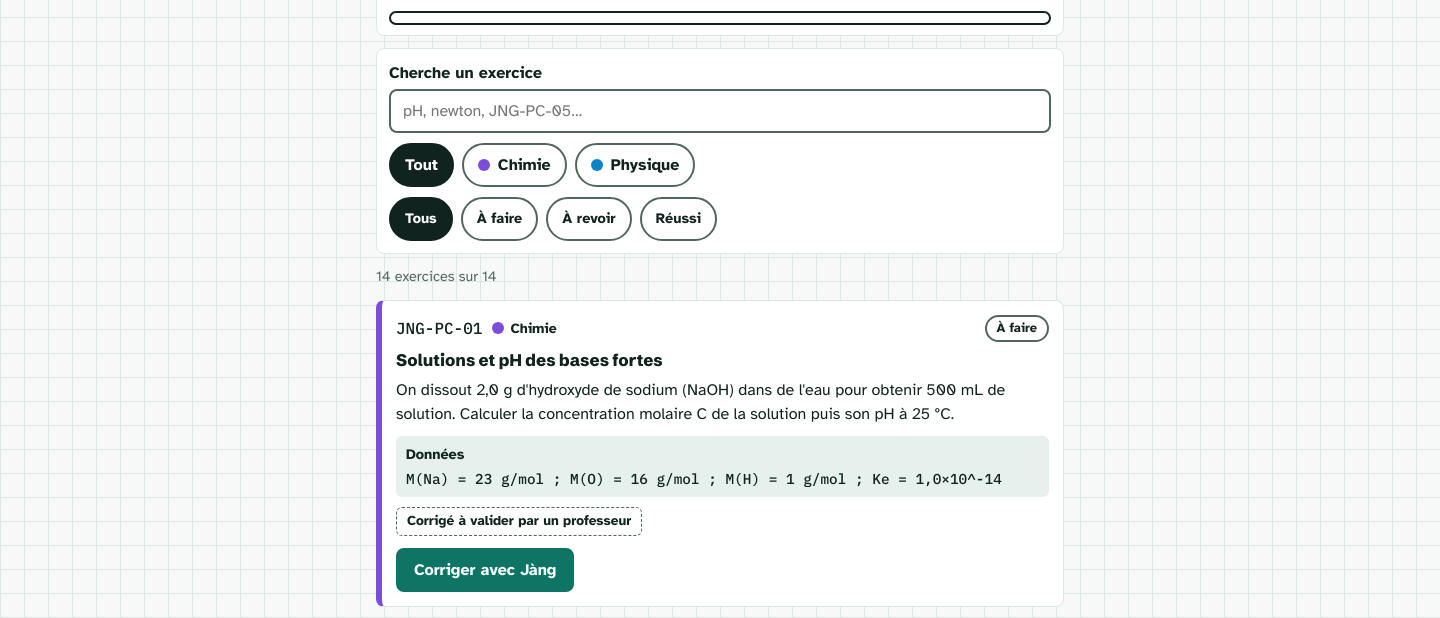
Test case: Correction panel › opens prefilled, and only one panel at a time
Click the button "Corriger avec Jàng": (485, 570) [396,548,574,592]
(page scrolled)
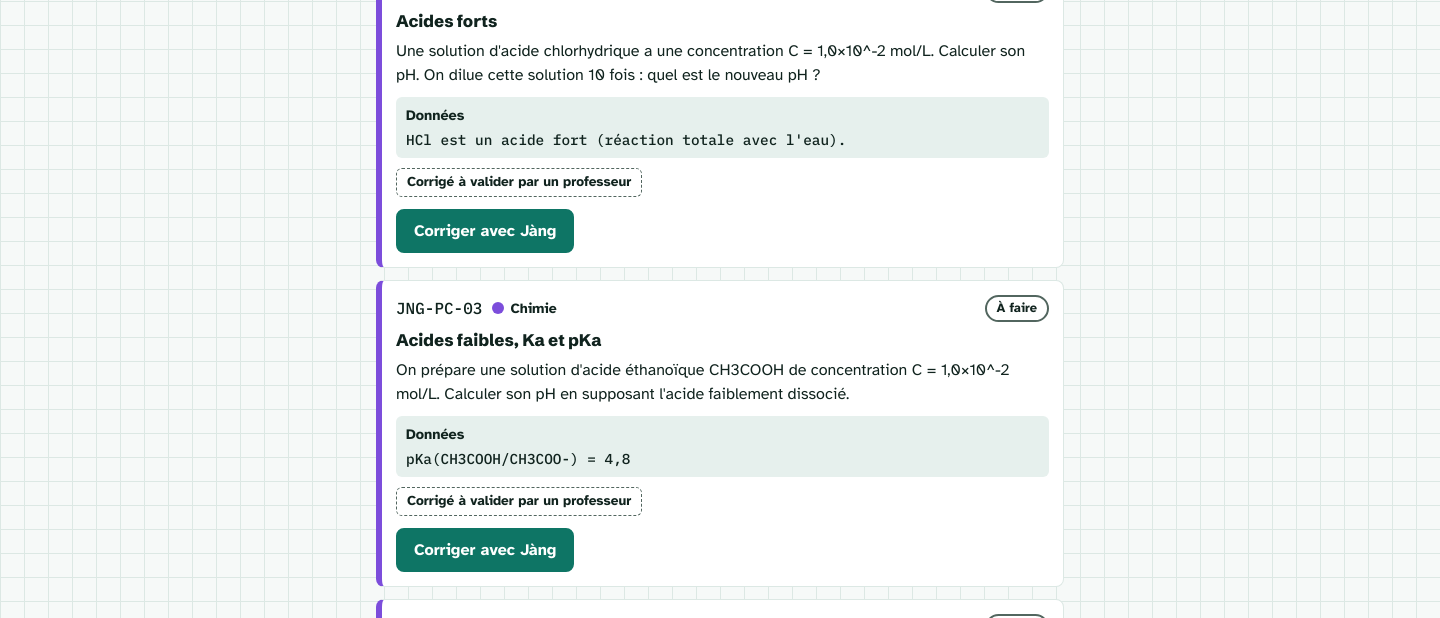
Click the button "Corriger avec Jàng" below "JNG-PC-02": (485, 231) [396,209,574,253]
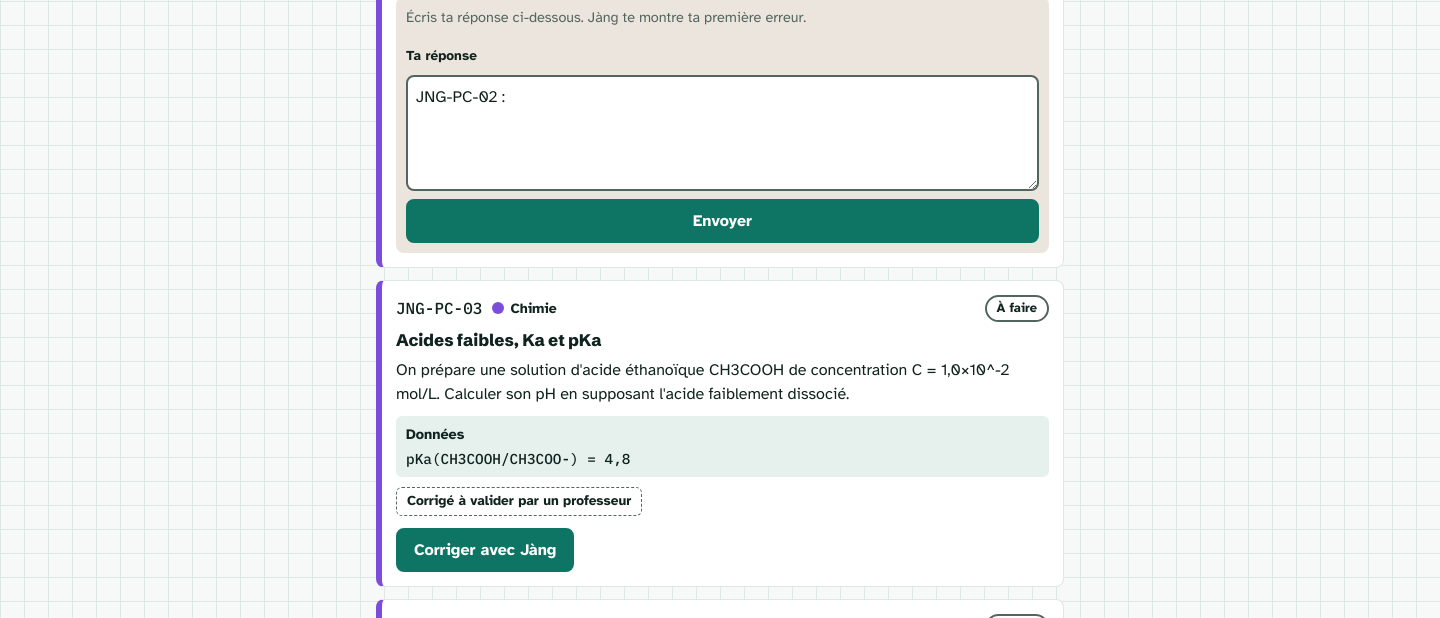
Result: the number of text boxes labelled "Ta réponse" is 1 at [406,75,1039,191]
Result: the text box holds "JNG-PC-02 : " at [406,75,1039,191]
